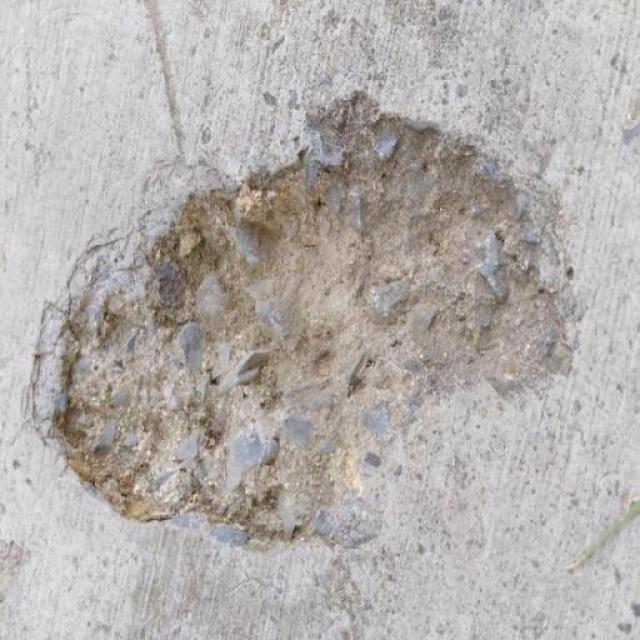D10: (29, 101, 572, 538)
